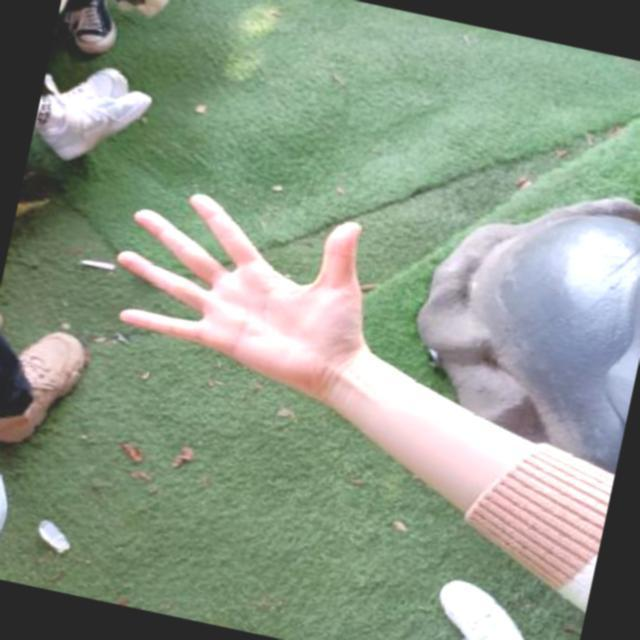hand: (92, 160, 396, 416)
